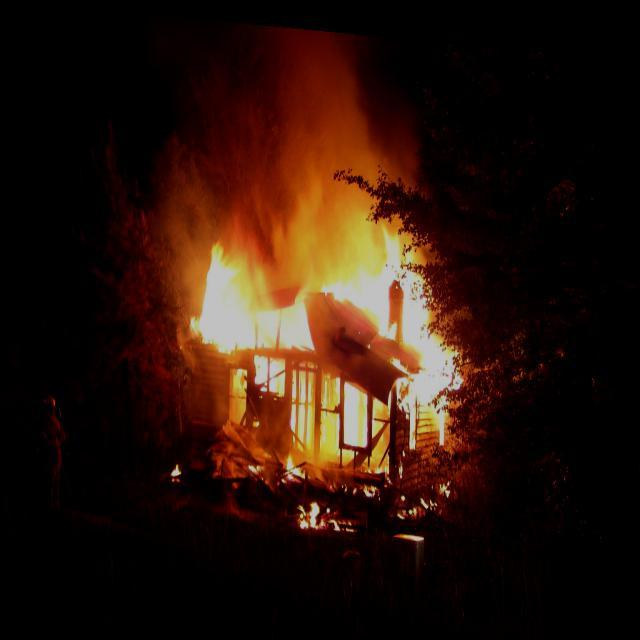Fire: (153, 76, 505, 548)
